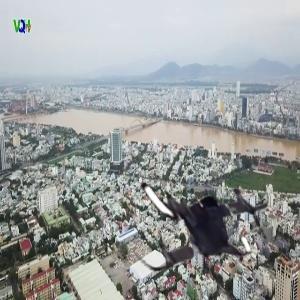drone: (119, 134, 277, 292)
